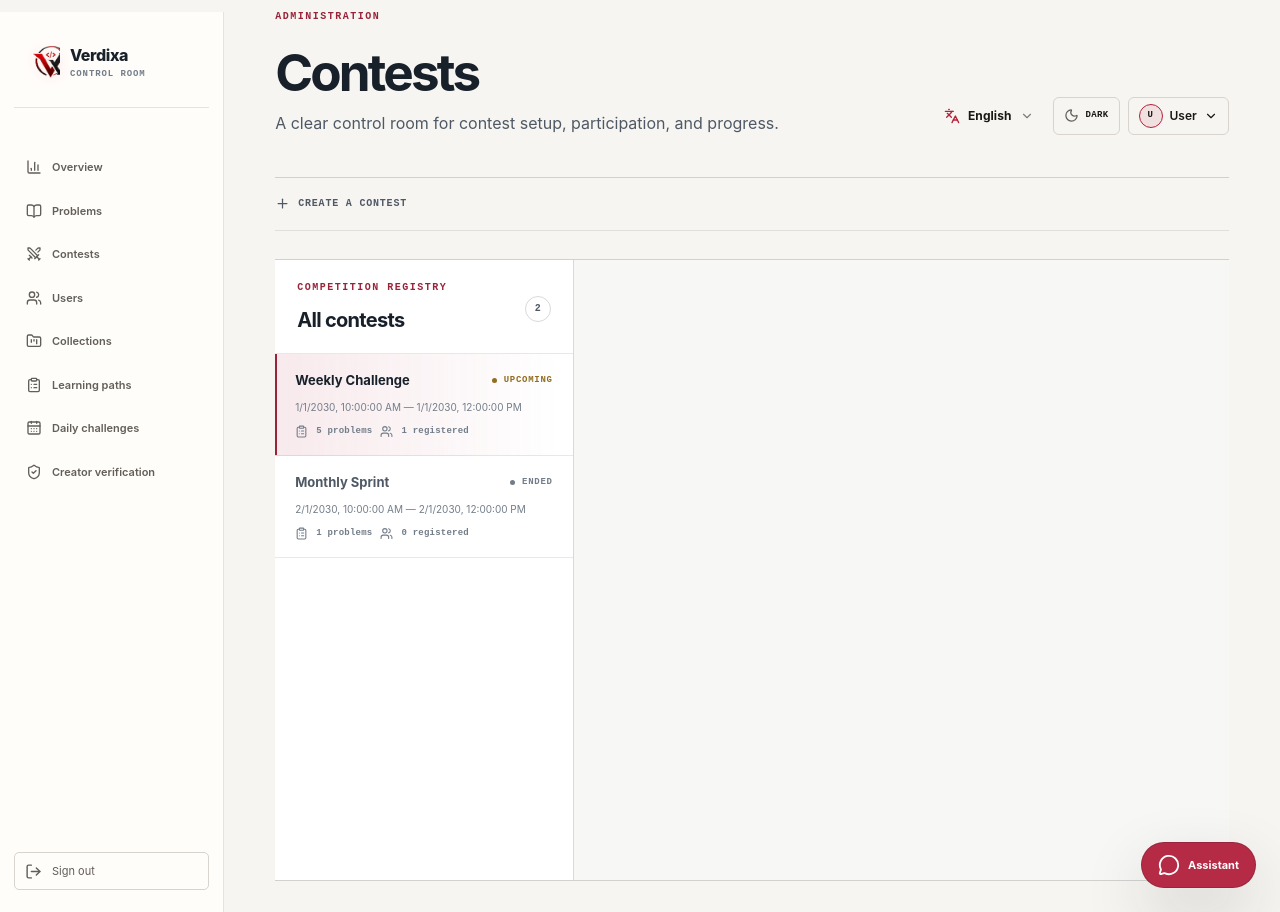
Test: selecting a contest loads its detail view
This screenshot has width=1280, height=912.
Check: the text "Weekly Challenge" is shown, box [295,371,410,390]
Click the list item "Monthly Sprint" at [424, 507], box [275,456,573,558]
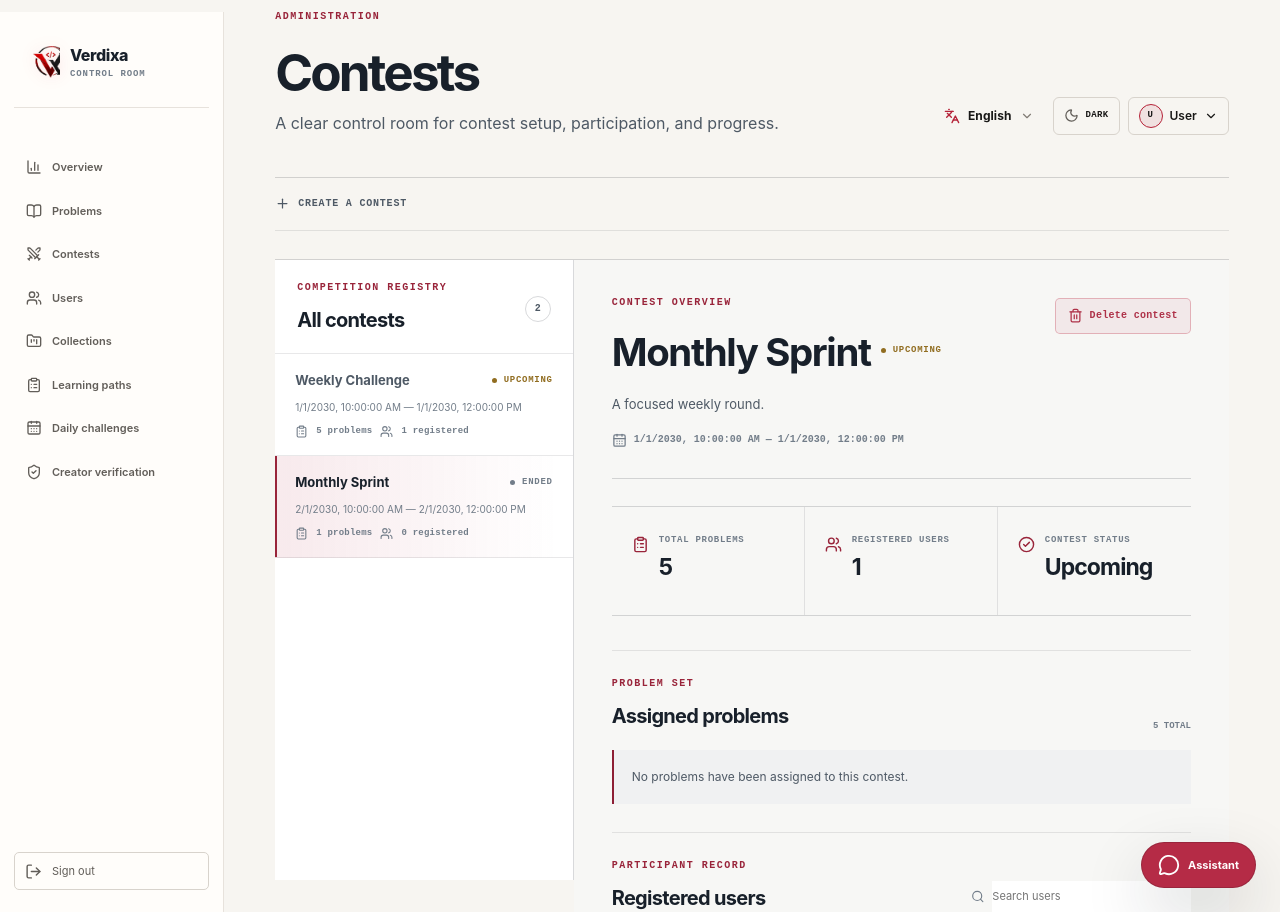
Check: the text "No problems have been assigned to this contest." is shown, box [612,750,1191,804]
